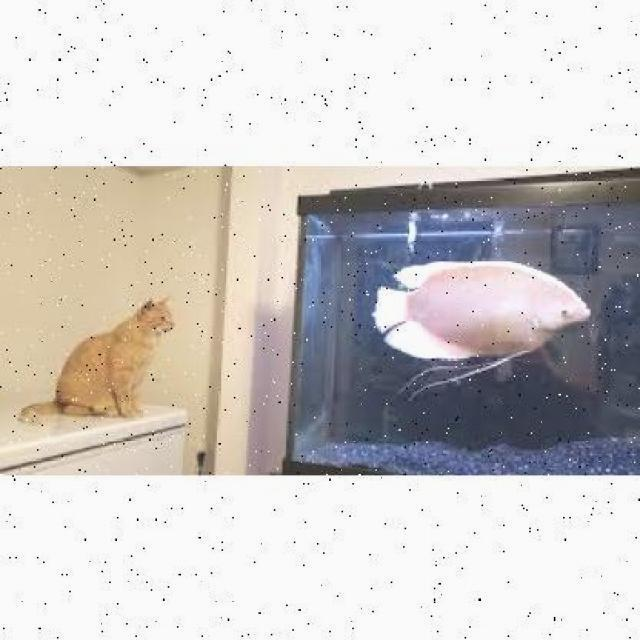gurame: (372, 257, 591, 368)
